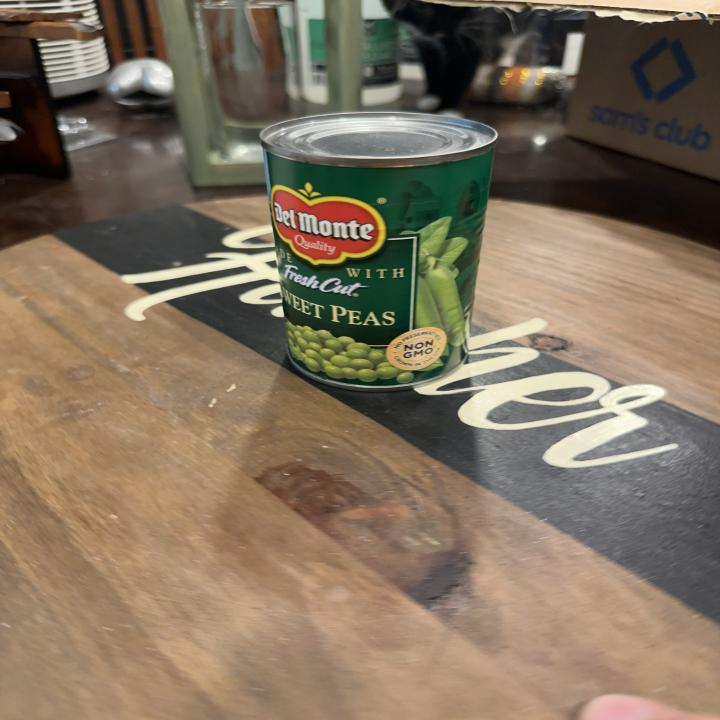Canned-Peas: (257, 108, 500, 395)
